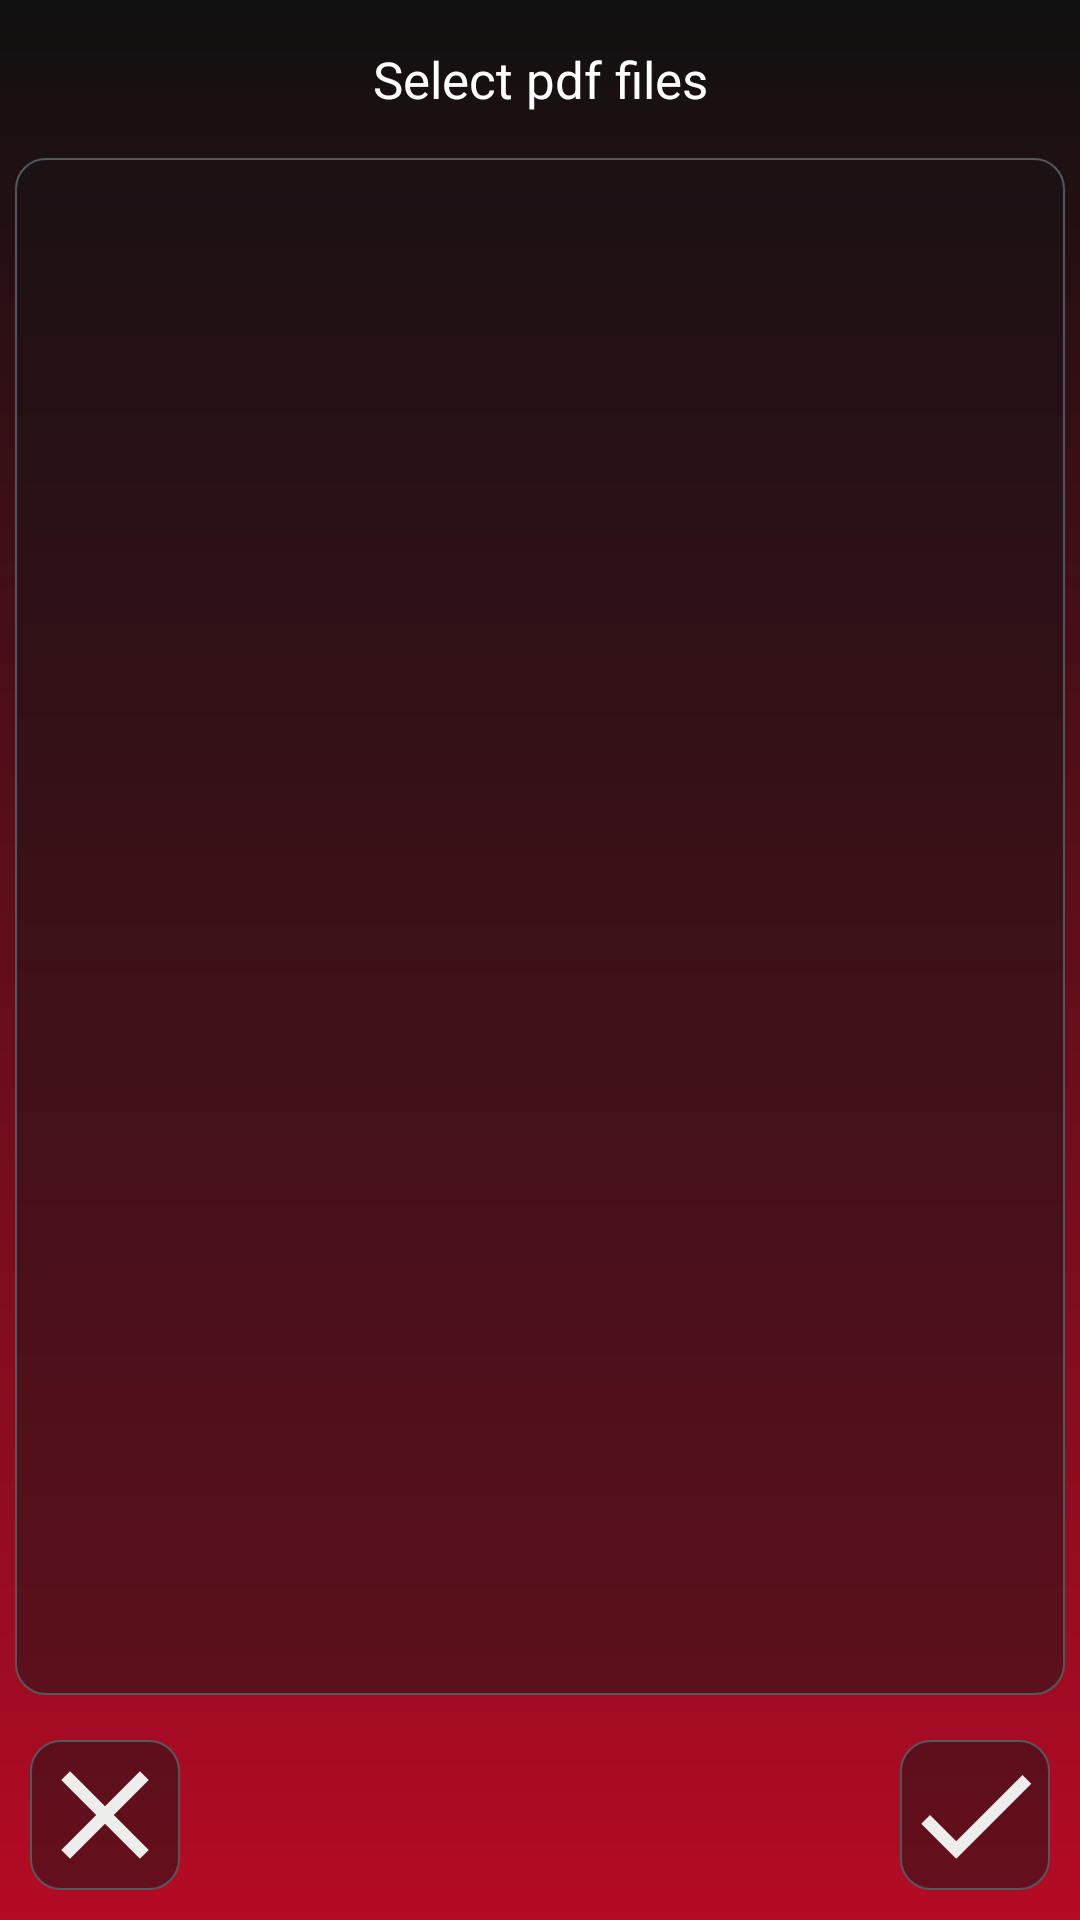

Icons on this 1080×1920 Android screen, each with the point to tap as point (x, y):
close: point (105, 1815)
done: point (975, 1815)
